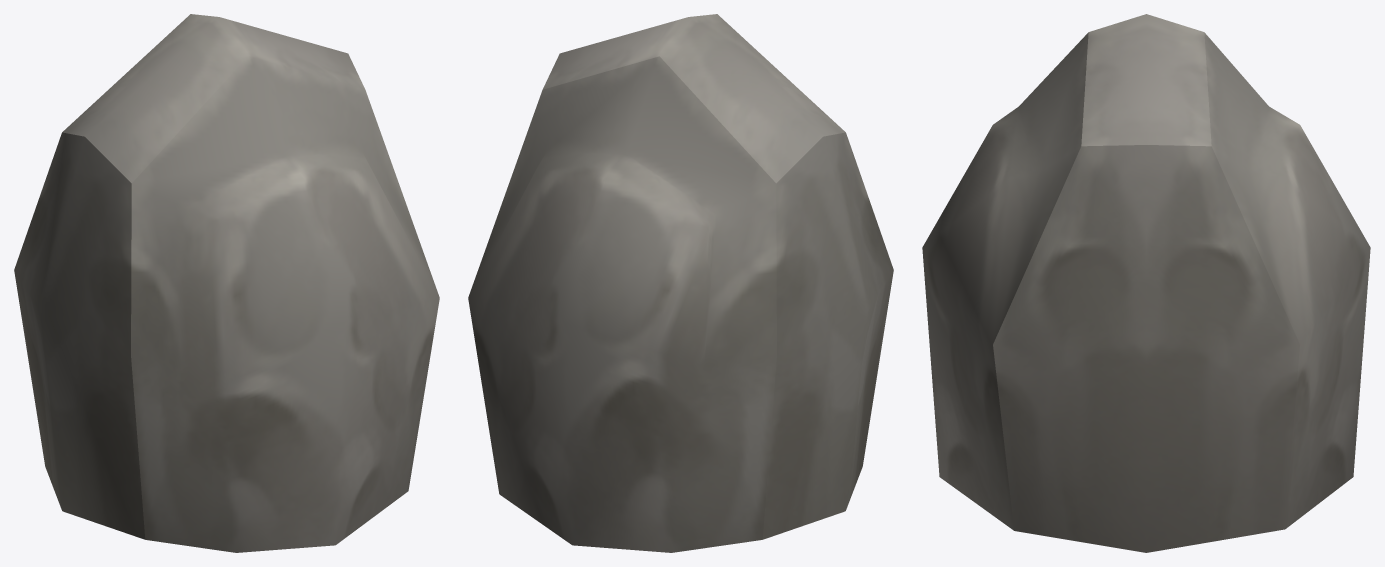
File: ZD01_zhuzi06.FBX
3 views of the same model, side by side, from view 1: azimuth 30°, elevation 25°; view 2: azimuth 150°, elevation 25°; view 3: azimuth 270°, elevation 25° (orthographic).
Parts seen in each view (by area): view 1: Object07; view 2: Object07; view 3: Object07.
Part boxes in pixels (box(x1,y1,x2,y2)): Object07: box(14, 14, 439, 552); Object07: box(468, 14, 893, 552); Object07: box(922, 14, 1370, 552).
Bounding box in the file's own units: 2.38 × 2.87 × 2.55.
